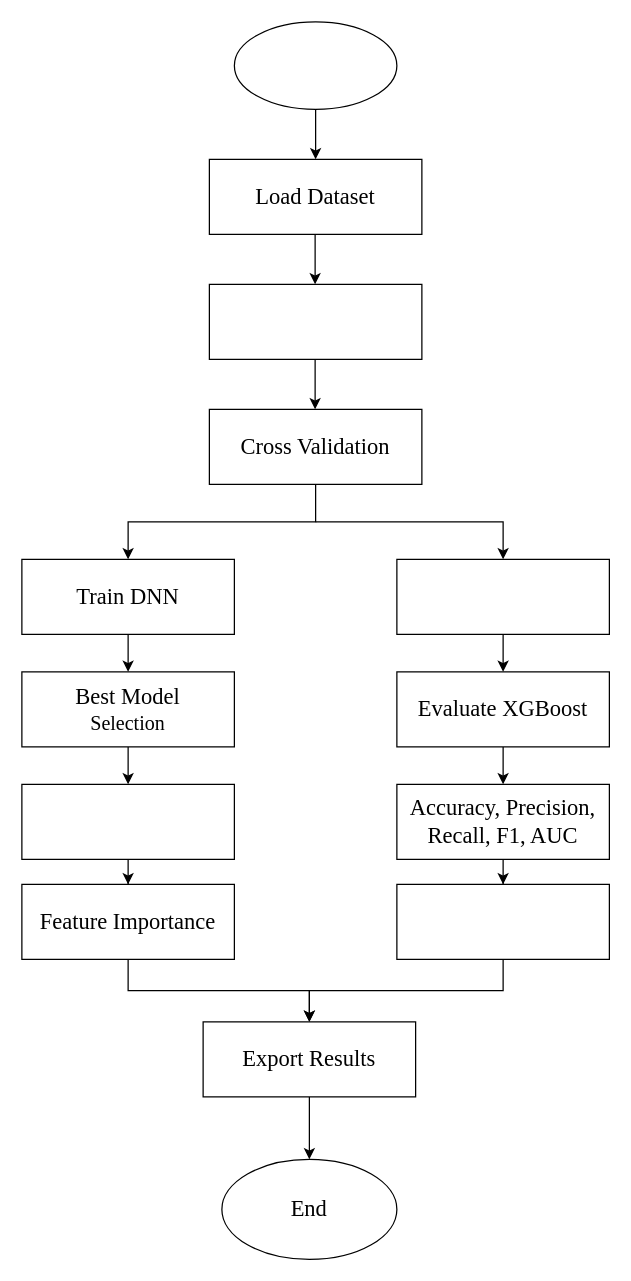
This 631x1281 diagram has some shape labels left out. Here are the shapes that lost their labels. From the top down, the centre of each, then its label:
(x=315, y=65): Start
(x=315, y=321): Preprocess Data (StandardScaler)
(x=502, y=596): Train XGBoost
(x=127, y=821): Final Training
(x=502, y=921): Input Features
